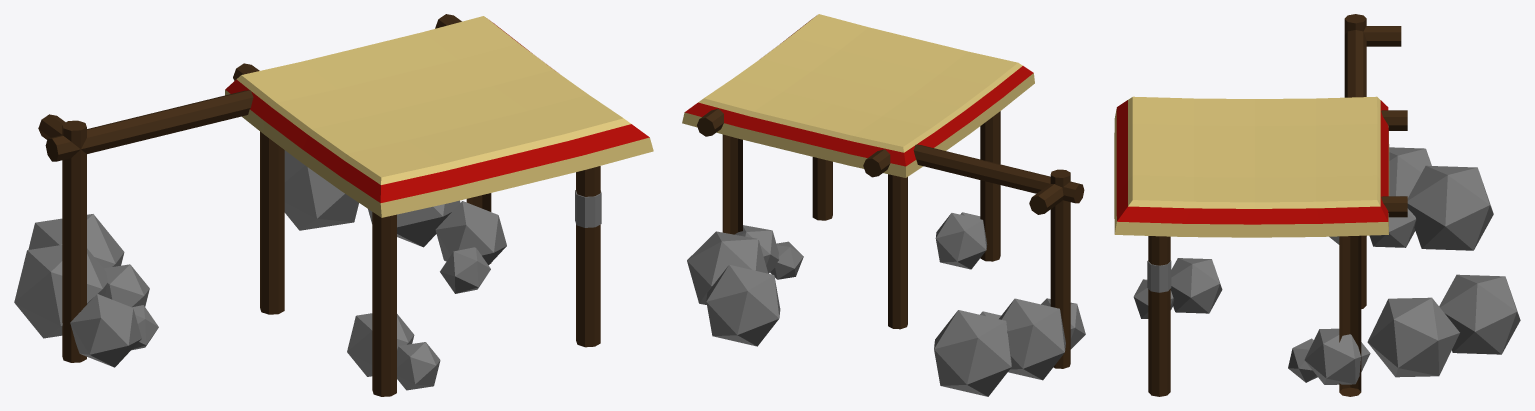
Rendered from cabañarara.fbx.
The picture shows the model from 3 angles, left to right: view 1: azimuth 30°, elevation 25°; view 2: azimuth 150°, elevation 25°; view 3: azimuth 270°, elevation 25°; orthographic projection. The views are drawn at different scales.
Parts seen in each view (by area): view 1: Plane.039; view 2: Plane.039; view 3: Plane.039.
Boxes of the visible parts, box(x1,y1,x2,y2) form: Plane.039: box(14, 14, 653, 396); Plane.039: box(682, 14, 1085, 396); Plane.039: box(1114, 14, 1520, 396).
Bounding box in the file's own units: 296 × 142 × 251.
